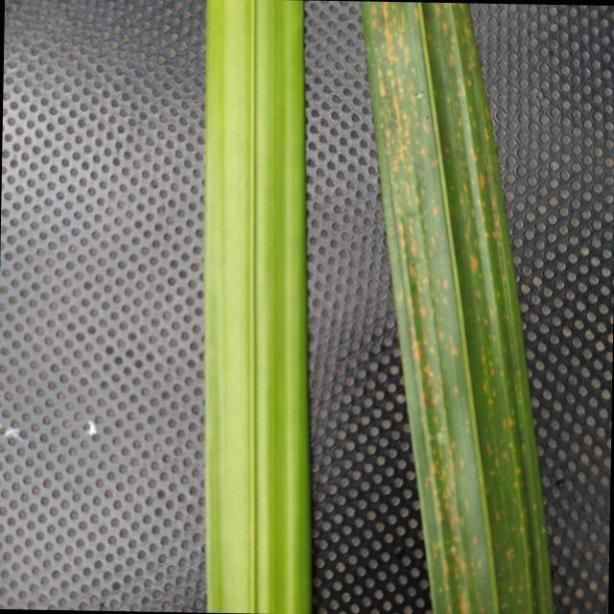nitrogen: (367, 0, 552, 614), (199, 0, 314, 614)
